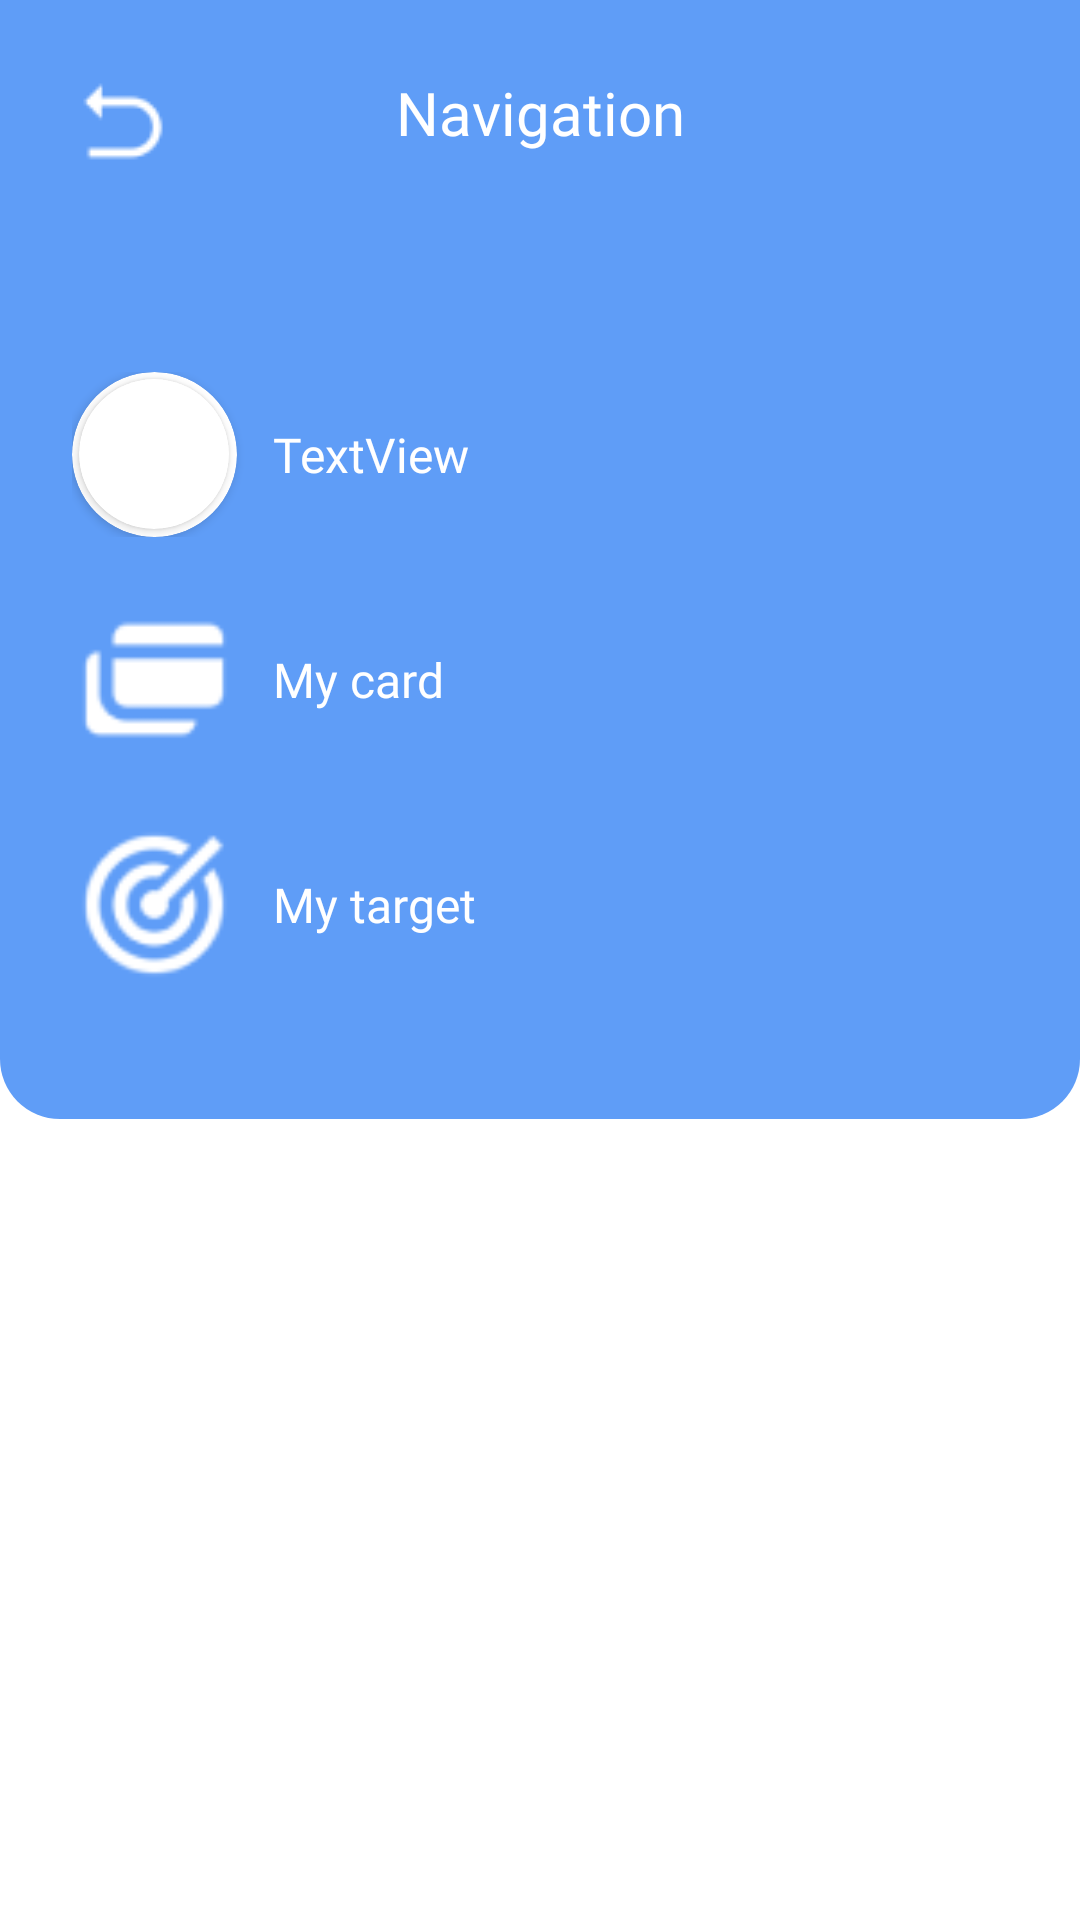

Screen size 1080px x 1920px. Icon name, then its center in pixels as (x=x, y=y):
back: (x=123, y=121)
